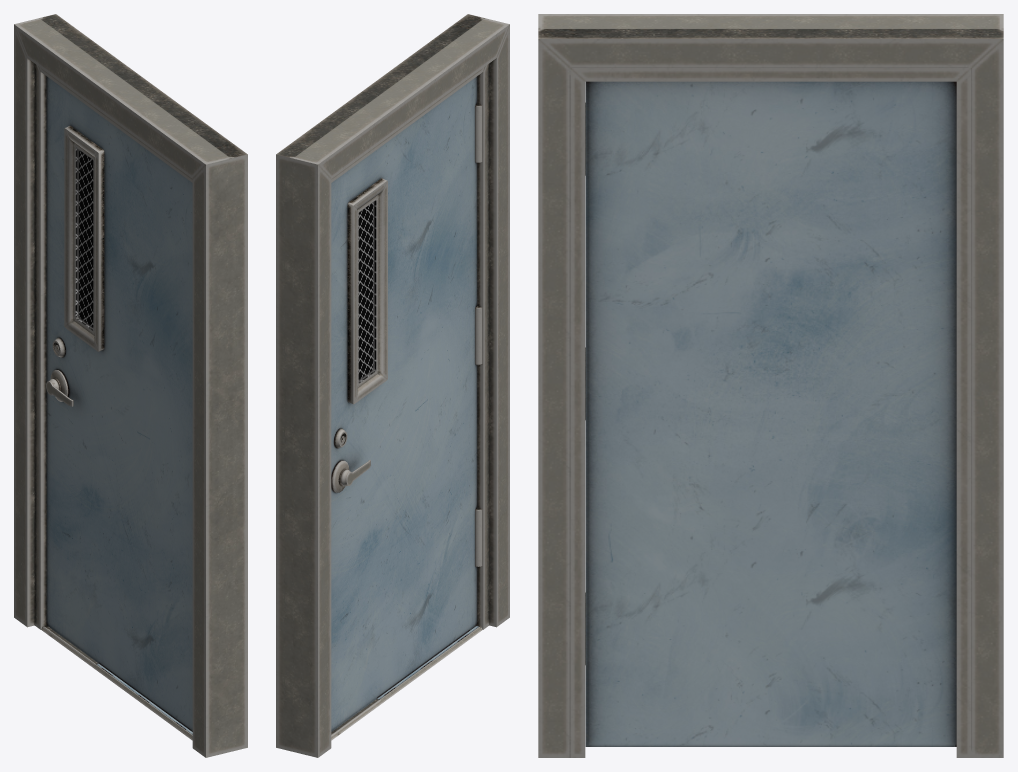
Rendered from Sketchfab_2024_03_22_21_43_56.fbx.
The picture shows the model from 3 angles, left to right: view 1: azimuth 30°, elevation 25°; view 2: azimuth 150°, elevation 25°; view 3: azimuth 270°, elevation 25°; orthographic projection. The views are drawn at different scales.
Visible parts, largest first — view 1: J1_a21; view 2: J1_a21; view 3: J1_a21.
Part boxes in pixels (x1,y1,x2,y2): J1_a21: (14, 14, 247, 757); J1_a21: (276, 14, 509, 757); J1_a21: (538, 14, 1003, 757).
Size of the model in its own units: 20.34 by 274 by 161.
